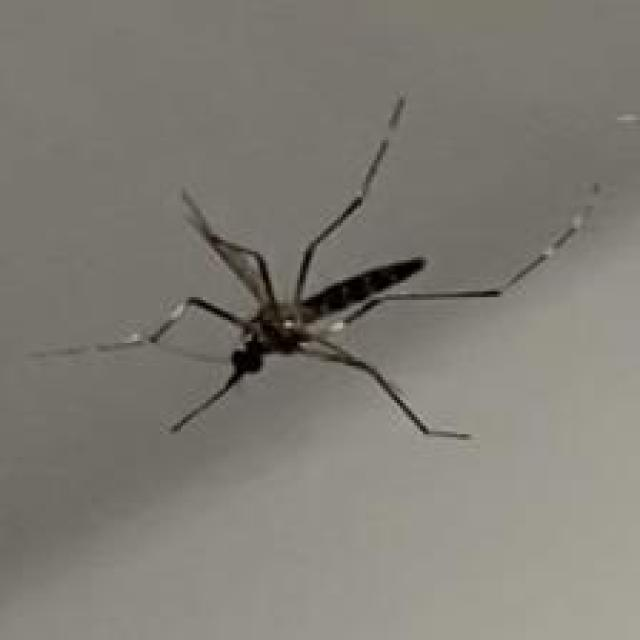Aedes albopictus: (29, 93, 597, 444)
